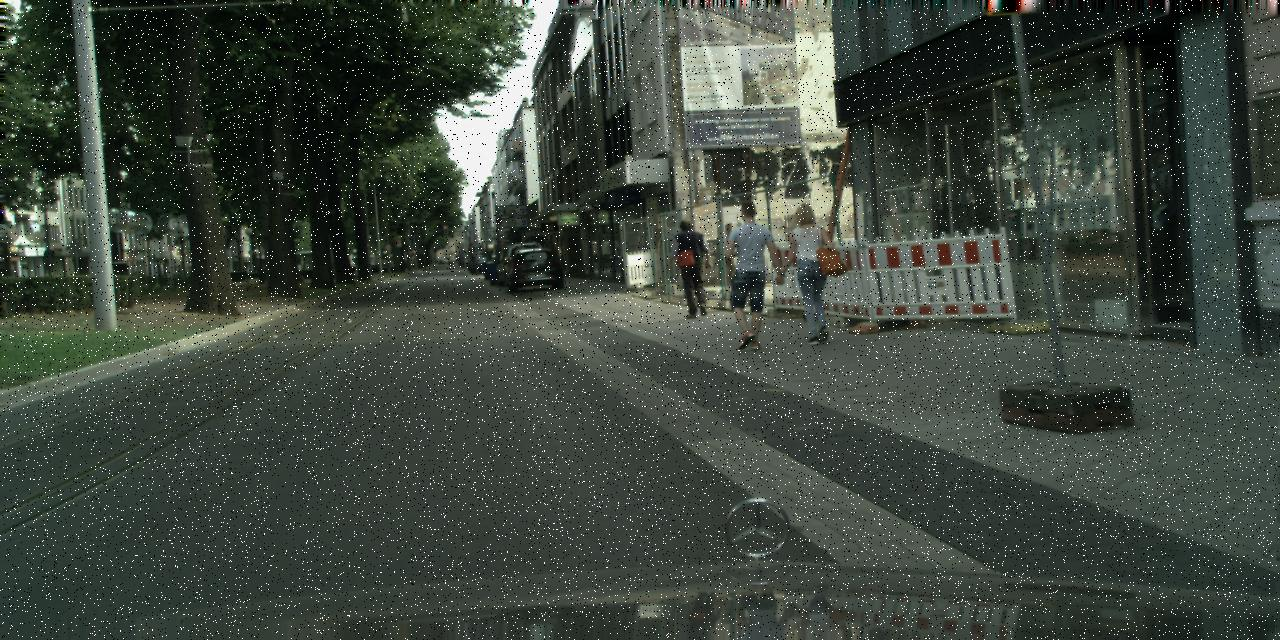ped: (718, 202, 778, 348), (783, 201, 840, 341), (673, 219, 712, 315)
